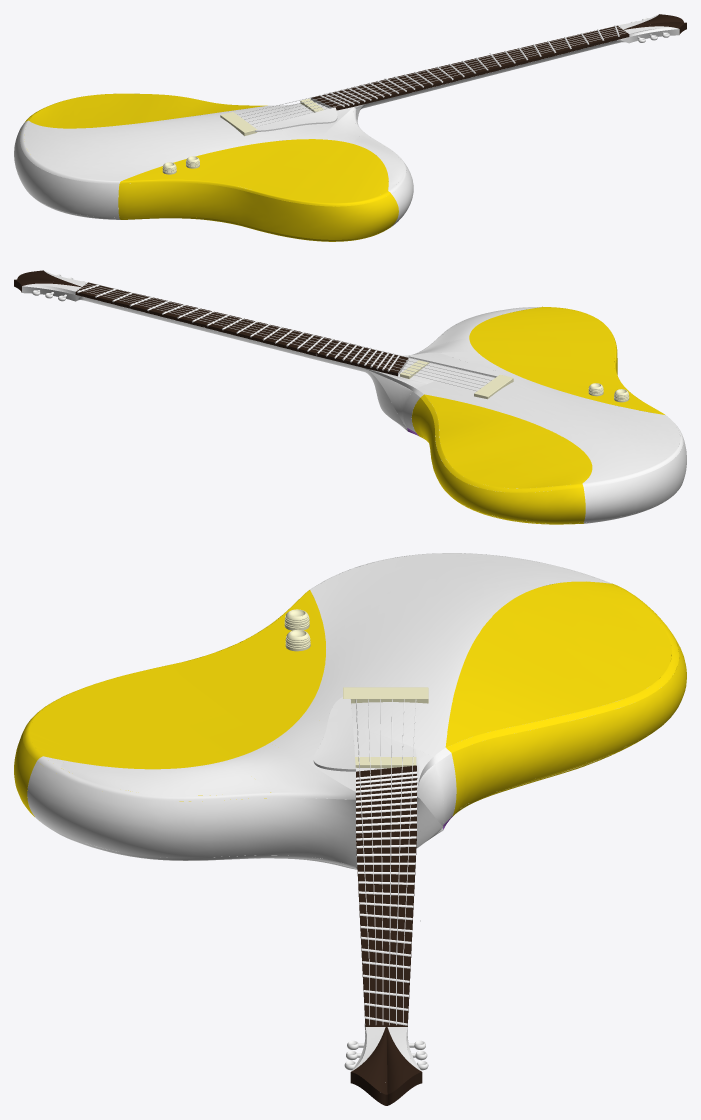
Rendered from guitar2.glb.
3 renders of one model, top to bottom at view 1: azimuth 30°, elevation 25°; view 2: azimuth 150°, elevation 25°; view 3: azimuth 270°, elevation 25°, orthographic. The views are drawn at different scales.
Parts seen in each view (by area): view 1: Shell (×19); view 2: Shell (×19); view 3: Shell (×21).
Part boxes in pixels (box(x1,y1,x2,y2)): Shell (×19): box(14, 25, 629, 241); Shell (×19): box(75, 282, 686, 522); Shell (×21): box(14, 553, 686, 1094).
Size of the model in its own units: 1.09 by 0.0858 by 0.5663.
Materials: 7 (1 with a texture image).
